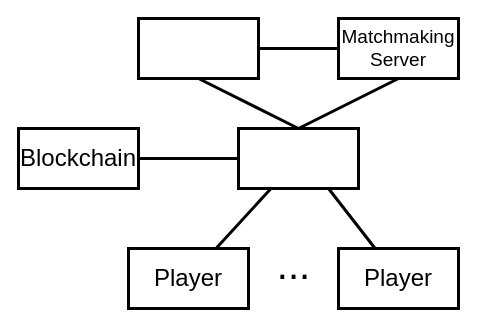
Image size: 477x327. Some labels were removed from this diagram. Here are the shapes that lost their labels. From the top down, the centre of each, then its label:
At pixel 198 48: "Database".
At pixel 298 158: "Server".
